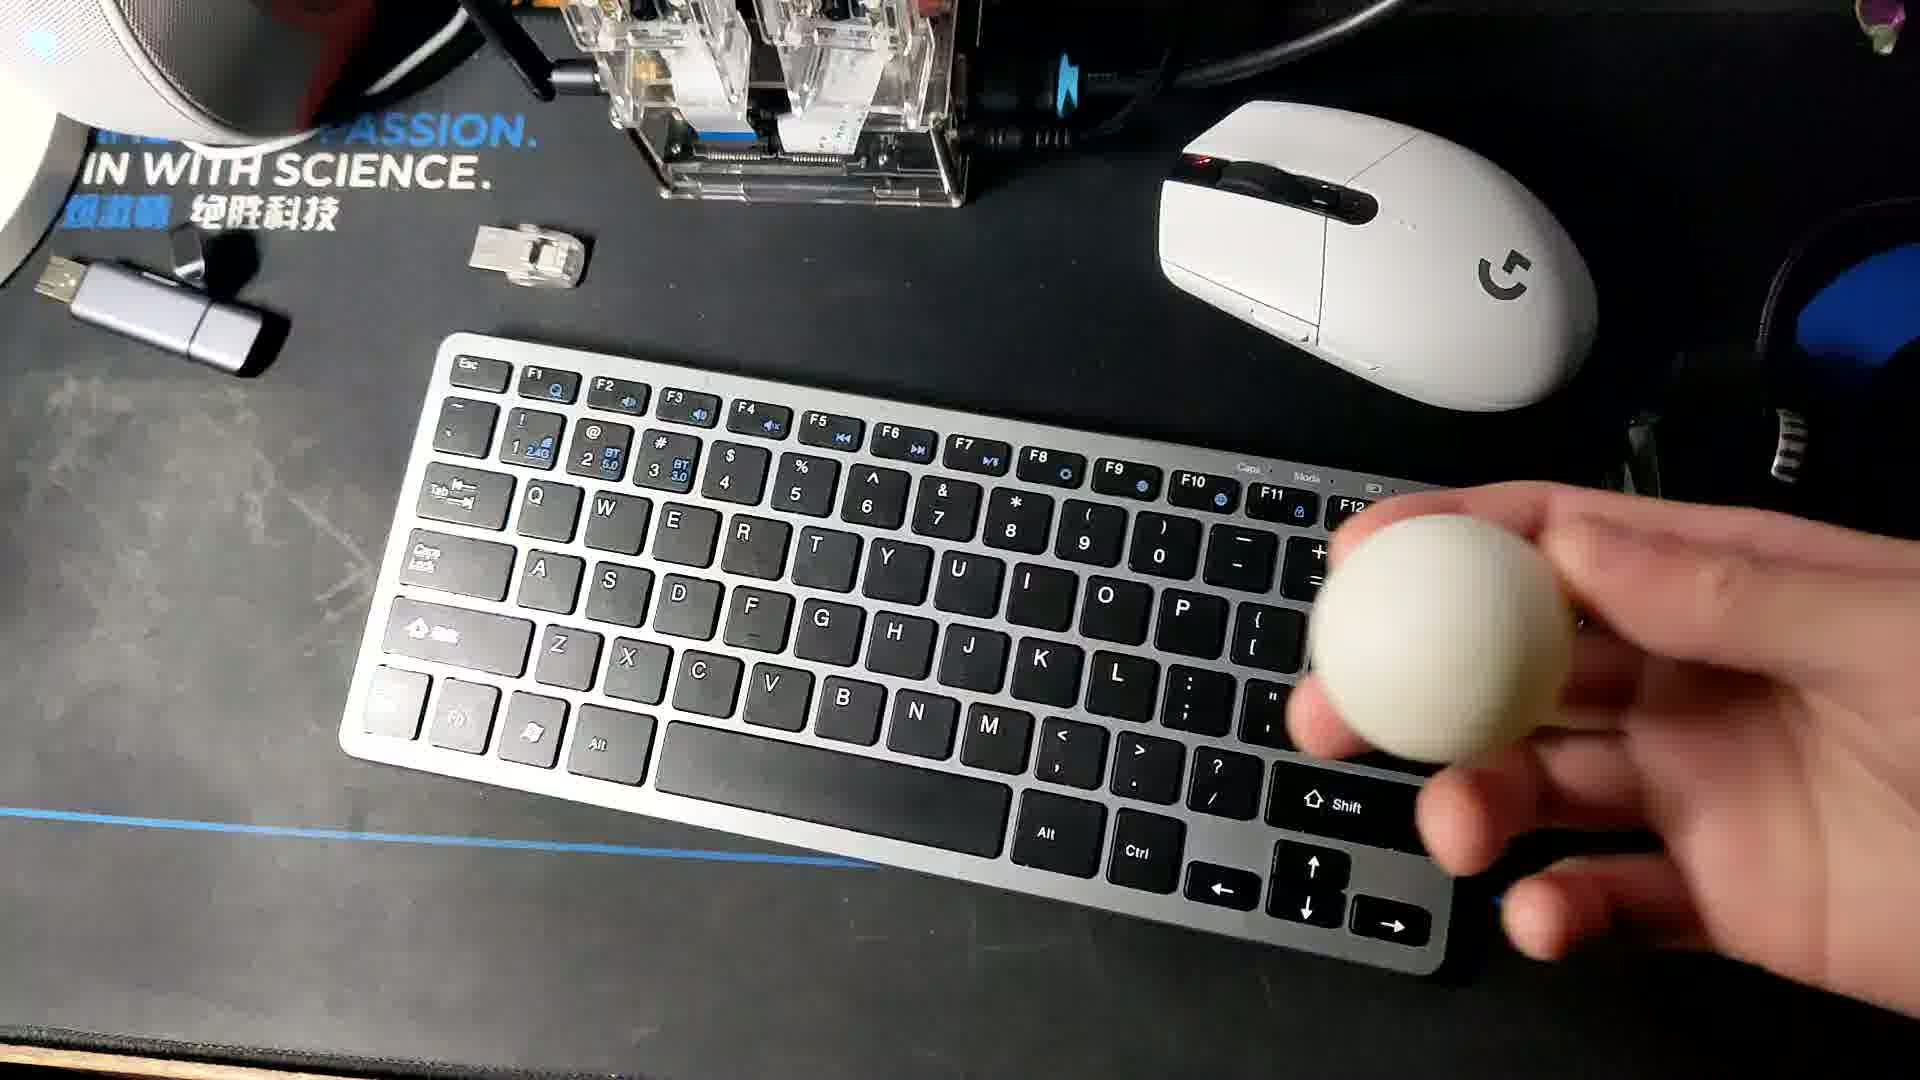Ball: (1308, 517, 1571, 758)
